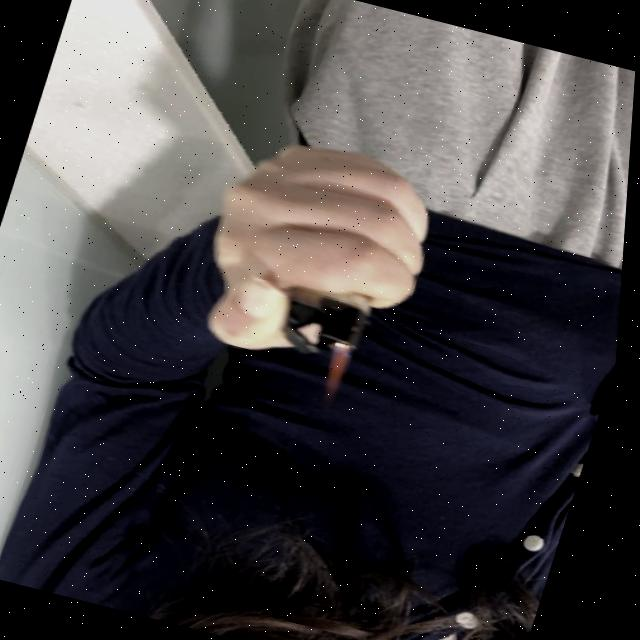Fire: (323, 342, 359, 404)
